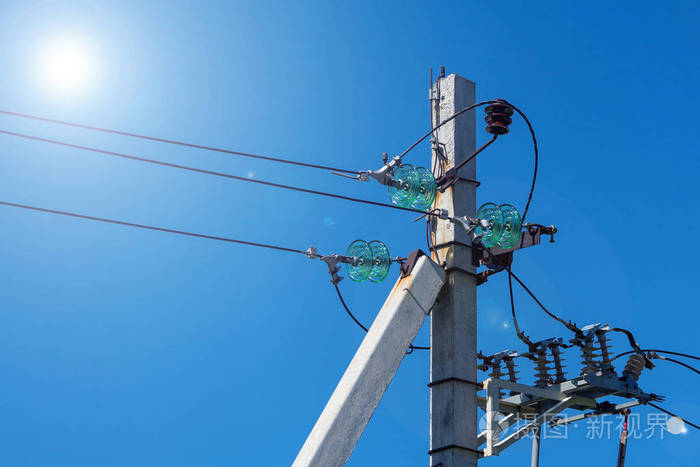insulator: (387, 162, 434, 212), (344, 237, 391, 287), (477, 204, 521, 249), (482, 104, 517, 136), (549, 350, 570, 379), (534, 357, 553, 389), (577, 345, 598, 372), (626, 351, 644, 381), (598, 340, 616, 366), (505, 363, 523, 384)
